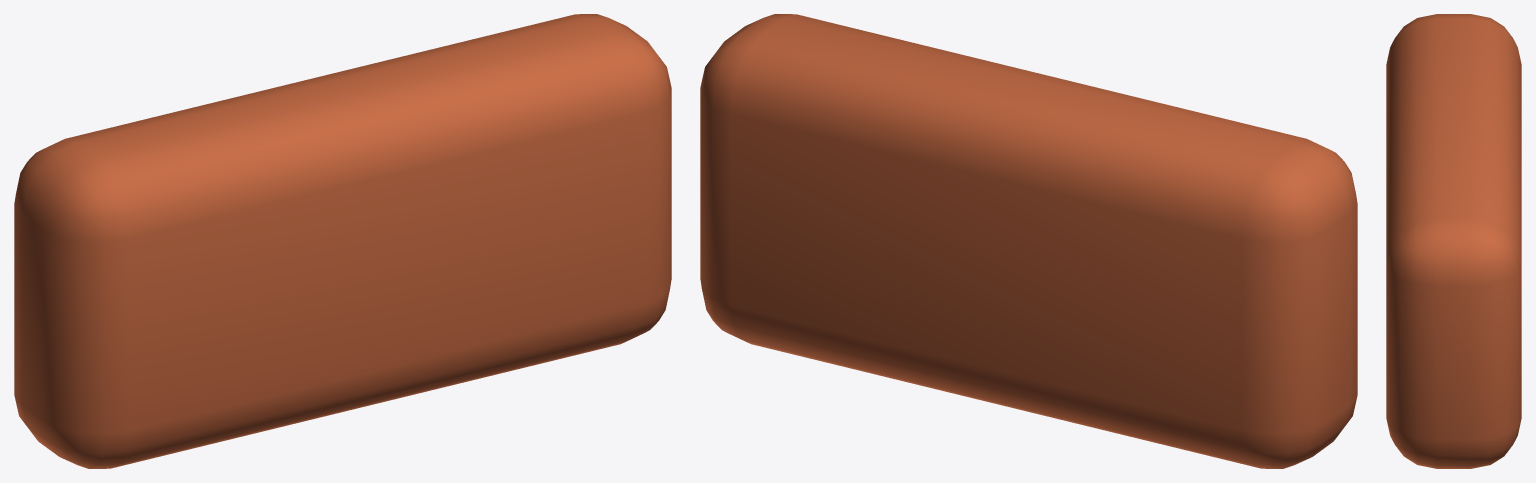
Rendered from nibbler_slide_switch.glb.
3 views of the same model, side by side, from view 1: azimuth 30°, elevation 25°; view 2: azimuth 150°, elevation 25°; view 3: azimuth 270°, elevation 25° (orthographic). The views are drawn at different scales.
Visible parts, largest first — view 1: nibbler_slide_switch; view 2: nibbler_slide_switch; view 3: nibbler_slide_switch.
Boxes of the visible parts, x1,y1,x2,y2 form: nibbler_slide_switch: (14,14,671,468); nibbler_slide_switch: (700,14,1357,468); nibbler_slide_switch: (1386,14,1521,468).
Size of the model in its own units: 0.034 by 0.016 by 0.008.
